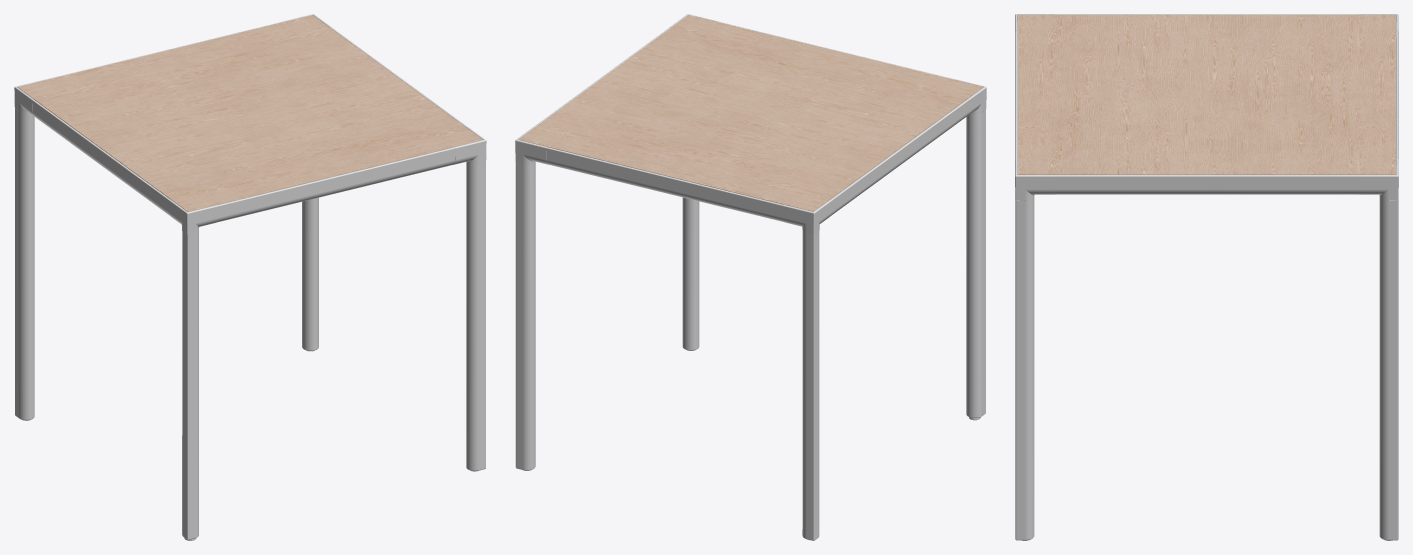
File: sui.gltf
3 renders of one model, left to right at view 1: azimuth 30°, elevation 25°; view 2: azimuth 150°, elevation 25°; view 3: azimuth 270°, elevation 25°, orthographic. The views are drawn at different scales.
Visible parts, largest first — view 1: Top, Leg; view 2: Top, Leg; view 3: Top, Leg.
Boxes of the visible parts, x1=… form: Top: x1=17, y1=15, x2=482, y2=211; Leg: x1=14, y1=14, x2=486, y2=540; Top: x1=518, y1=15, x2=983, y2=211; Leg: x1=515, y1=14, x2=986, y2=540; Top: x1=1018, y1=15, x2=1395, y2=174; Leg: x1=1015, y1=14, x2=1398, y2=540.
Bounding box in the file's own units: 0.7109 × 0.749 × 0.7109.
2 materials, 2 textured.
